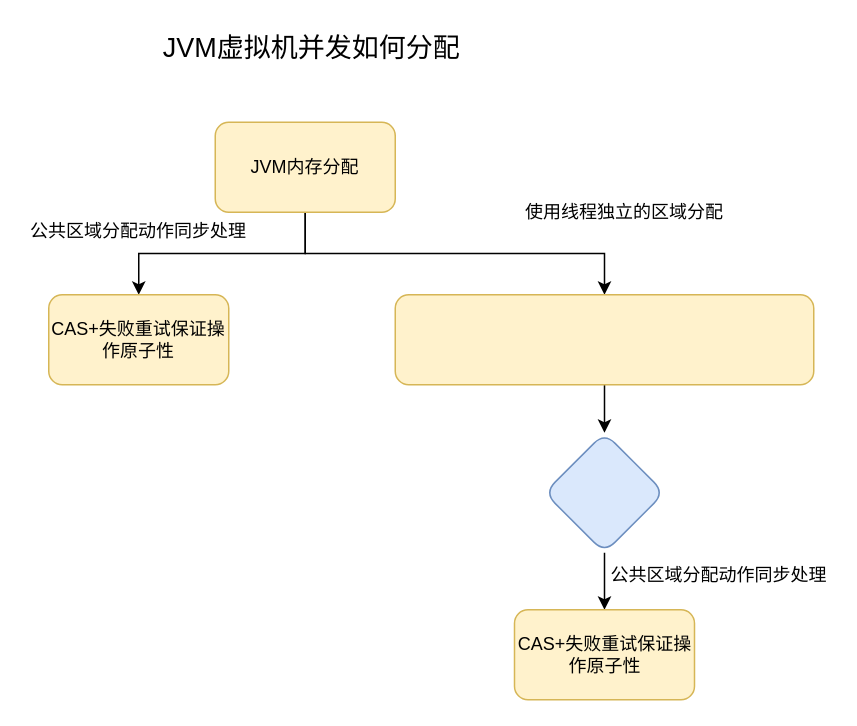
Image size: 857x726. Some labels were removed from this diagram. The box of each missing label's shape, as (x1, y1, x2, y2) in pixels:
本地线程分配缓冲 (Thread Local Allocation Buffer,TLAB): (394, 293, 814, 385)
申请新缓冲: (543, 431, 664, 553)
